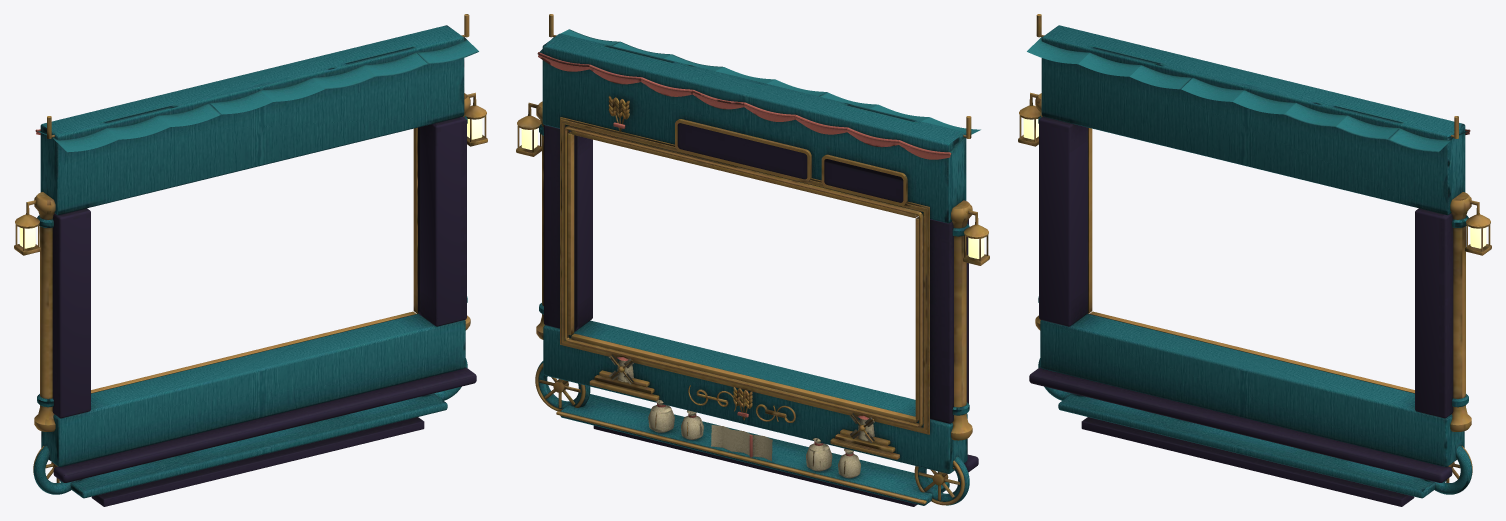
3 views of the same model, side by side, from view 1: azimuth 30°, elevation 25°; view 2: azimuth 150°, elevation 25°; view 3: azimuth 330°, elevation 25° (orthographic).
Visible parts, largest first — view 1: Teal_painted_timber, Deep_violet_enamel, Convoy_brushed_brass, Teal_canopy_fabric, Warm_lantern_glow; view 2: Teal_painted_timber, Convoy_brushed_brass, Deep_violet_enamel, Linen_and_folded_paper, Coral_woven_accents, Teal_canopy_fabric, Warm_lantern_glow; view 3: Teal_painted_timber, Deep_violet_enamel, Convoy_brushed_brass, Teal_canopy_fabric, Warm_lantern_glow.
Part boxes in pixels (<box>): Teal_painted_timber: <box>33,25,467,498</box>; Deep_violet_enamel: <box>52,116,476,506</box>; Convoy_brushed_brass: <box>14,14,487,482</box>; Teal_canopy_fabric: <box>37,37,478,152</box>; Warm_lantern_glow: <box>19,118,482,248</box>; Teal_painted_timber: <box>537,33,969,505</box>; Convoy_brushed_brass: <box>516,14,989,505</box>; Deep_violet_enamel: <box>544,123,978,506</box>; Linen_and_folded_paper: <box>609,354,874,478</box>; Coral_woven_accents: <box>537,52,951,457</box>; Teal_canopy_fabric: <box>539,29,980,152</box>; Warm_lantern_glow: <box>521,128,984,258</box>; Teal_painted_timber: <box>1038,25,1472,498</box>; Deep_violet_enamel: <box>1029,116,1453,506</box>; Convoy_brushed_brass: <box>1018,14,1491,482</box>; Teal_canopy_fabric: <box>1027,37,1468,152</box>; Warm_lantern_glow: <box>1023,118,1486,248</box>.
Size of the model in its own units: 11.1 by 9 by 1.44.
7 materials, 6 textured.
